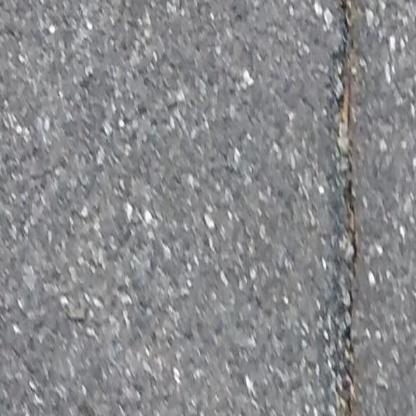Cracks: (315, 0, 364, 416)
